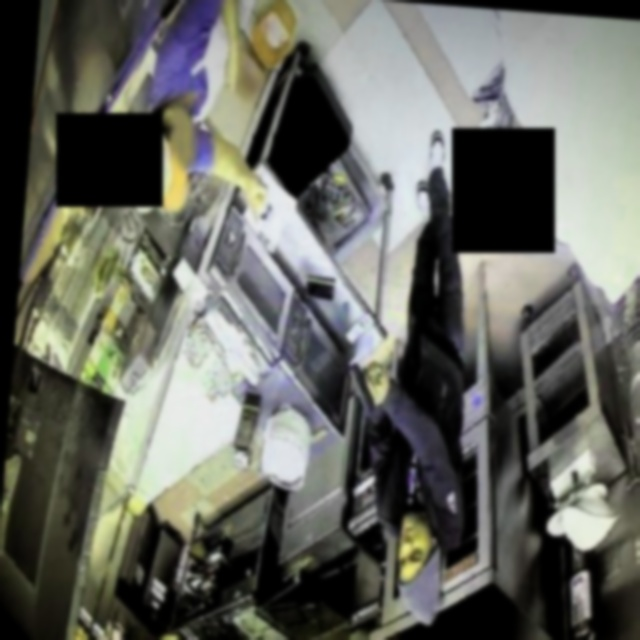gun: (342, 355, 398, 417)
